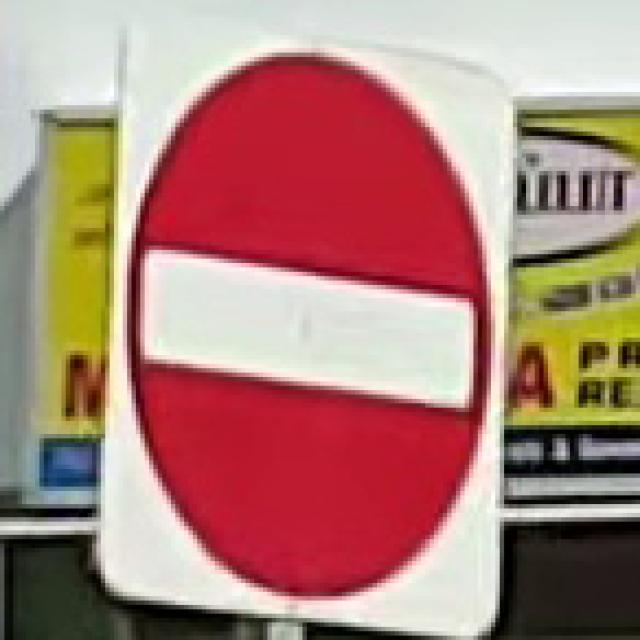noentry_sign: (92, 35, 513, 636)
